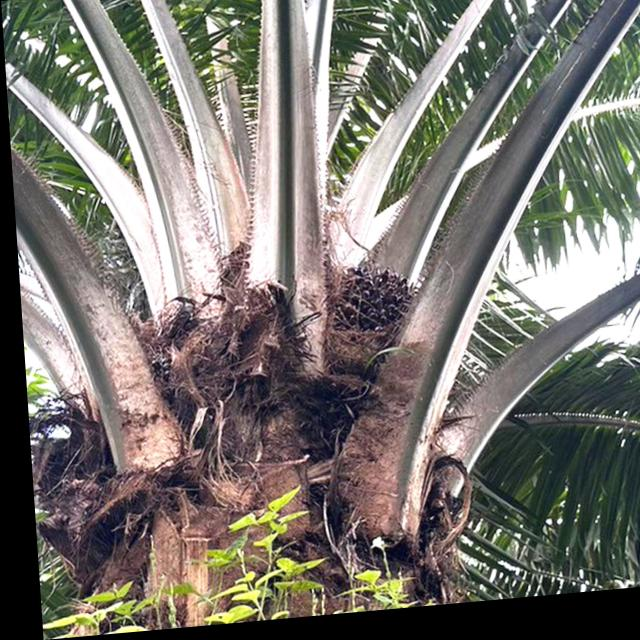almost: (316, 266, 412, 348)
